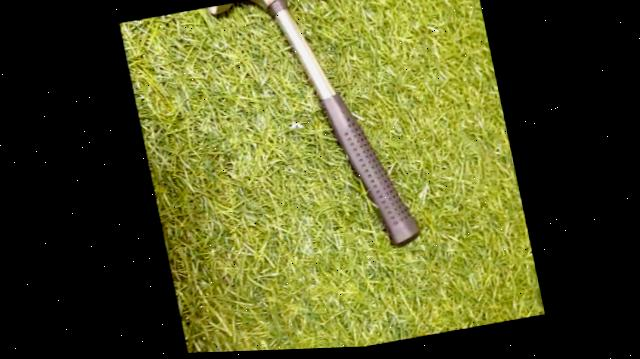hammer: (197, 0, 433, 278)
